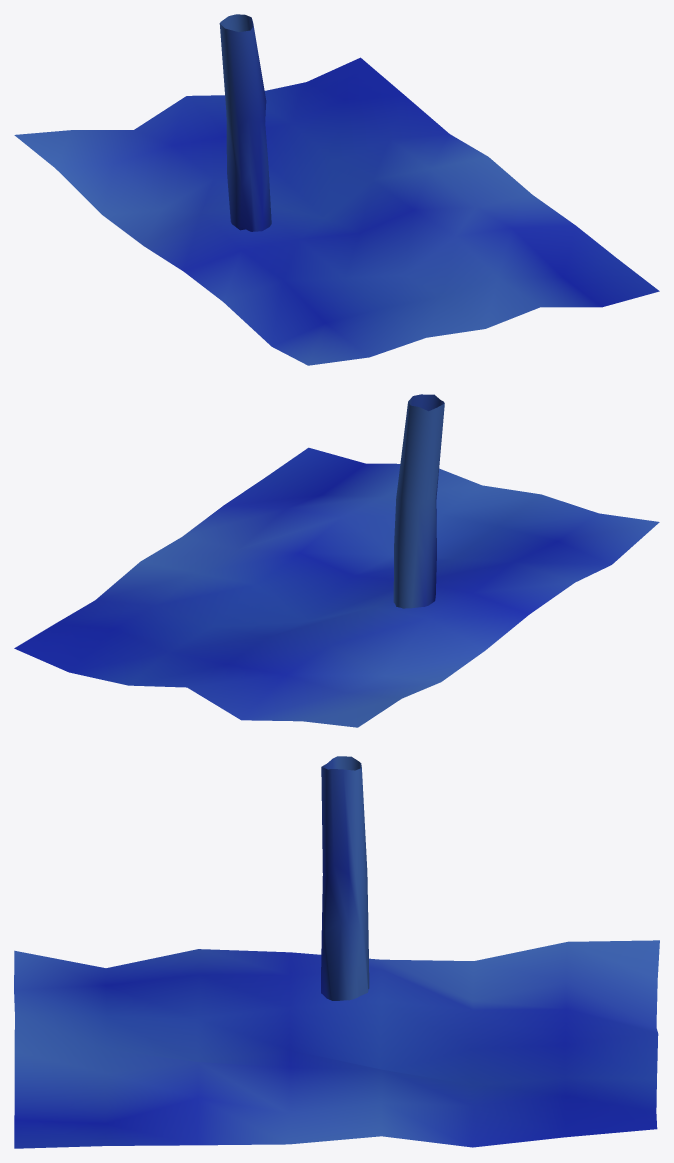
Rendered from ToiletSinkWater.fbx.
3 views of the same model, one above another, from view 1: azimuth 30°, elevation 25°; view 2: azimuth 150°, elevation 25°; view 3: azimuth 270°, elevation 25° (orthographic). The views are drawn at different scales.
Visible parts, largest first — view 1: ToiletSink_Water; view 2: ToiletSink_Water; view 3: ToiletSink_Water.
Boxes of the visible parts, bbox=[...] form: ToiletSink_Water: bbox=[14, 14, 659, 365]; ToiletSink_Water: bbox=[14, 394, 659, 727]; ToiletSink_Water: bbox=[14, 756, 659, 1148].
Bounding box in the file's own units: 108 × 76.27 × 158.
